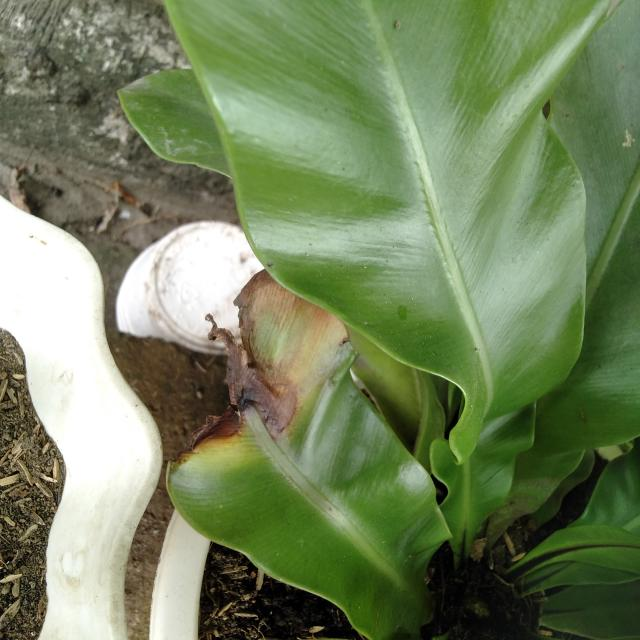blight: (197, 287, 320, 474)
